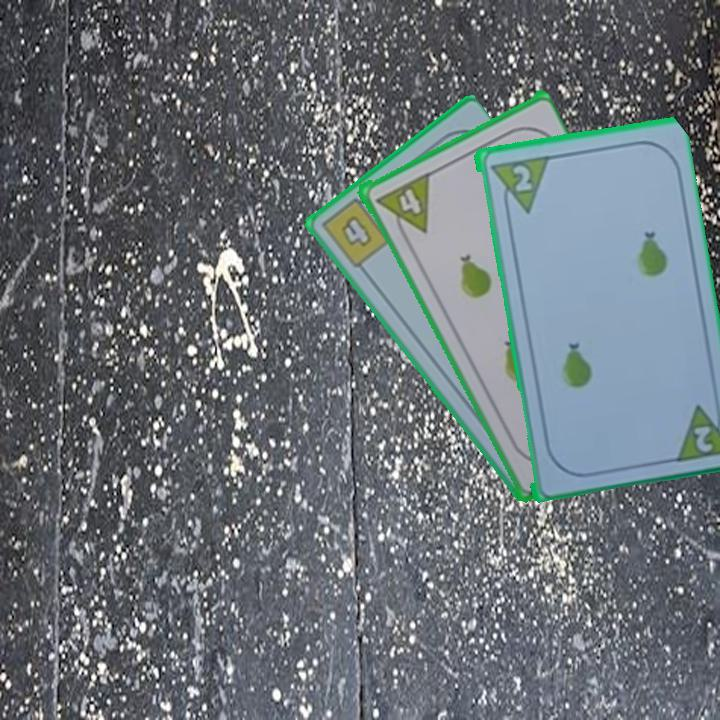2p: (689, 421, 715, 455), (509, 161, 534, 194)
4b: (317, 190, 393, 271)
4p: (391, 173, 432, 233)
